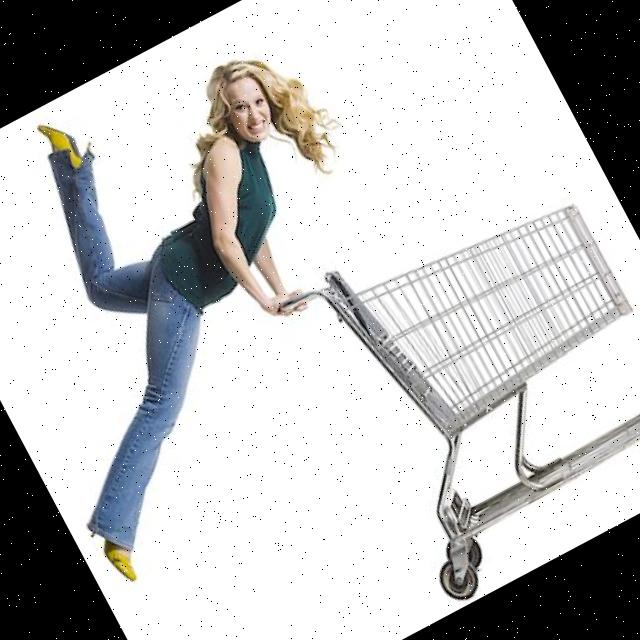Person: (0, 0, 485, 590)
